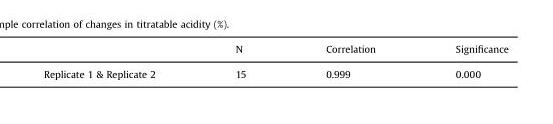table: (42, 42, 507, 79)
table column: (42, 42, 194, 79), (285, 42, 414, 79), (414, 42, 507, 79), (194, 42, 285, 79)
table column header: (42, 42, 507, 60)
table row: (42, 60, 507, 79), (42, 42, 507, 60)
